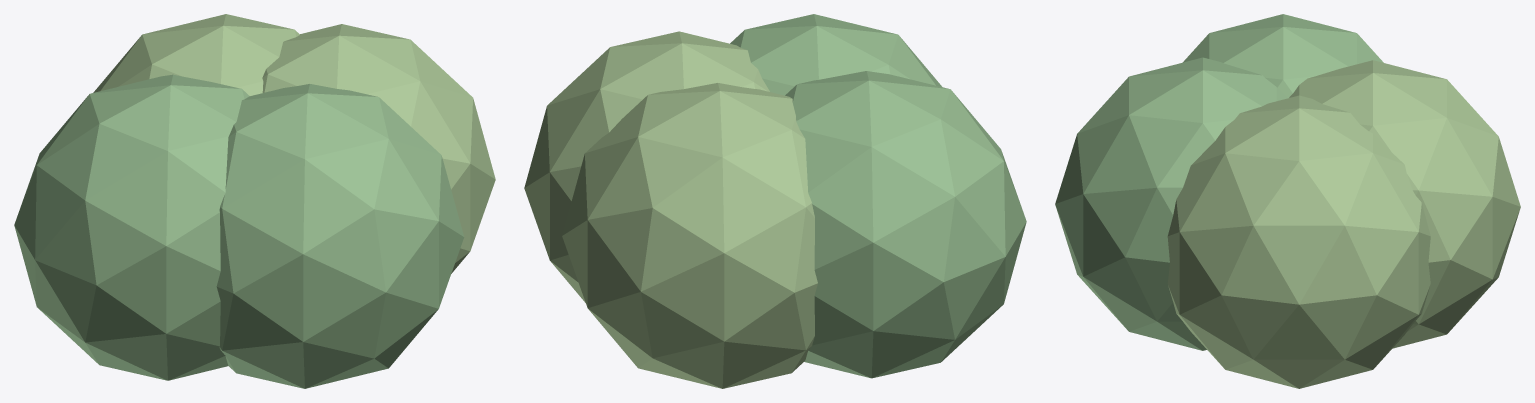
The model's file is bush_berries.glb.
3 views of the same model, side by side, from view 1: azimuth 30°, elevation 25°; view 2: azimuth 150°, elevation 25°; view 3: azimuth 270°, elevation 25° (orthographic). The views are drawn at different scales.
Parts seen in each view (by area): view 1: Foliage_2, Foliage_0, Foliage_1, Foliage_3; view 2: Foliage_3, Foliage_0, Foliage_1, Foliage_2; view 3: Foliage_1, Foliage_2, Foliage_3, Foliage_0.
Part boxes in pixels (box(x1,y1,x2,y2)): Foliage_2: box(216, 84, 464, 388); Foliage_0: box(14, 74, 249, 380); Foliage_1: box(262, 24, 495, 273); Foliage_3: box(93, 14, 299, 95); Foliage_3: box(562, 83, 817, 388); Foliage_0: box(785, 71, 1026, 378); Foliage_1: box(524, 31, 769, 302); Foliage_2: box(730, 14, 941, 95); Foliage_1: box(1167, 95, 1430, 388); Foliage_2: box(1055, 57, 1287, 350); Foliage_3: box(1289, 60, 1520, 348); Foliage_0: box(1183, 14, 1383, 98).
Bounding box in the file's own units: 1.52 × 0.92 × 1.45.
